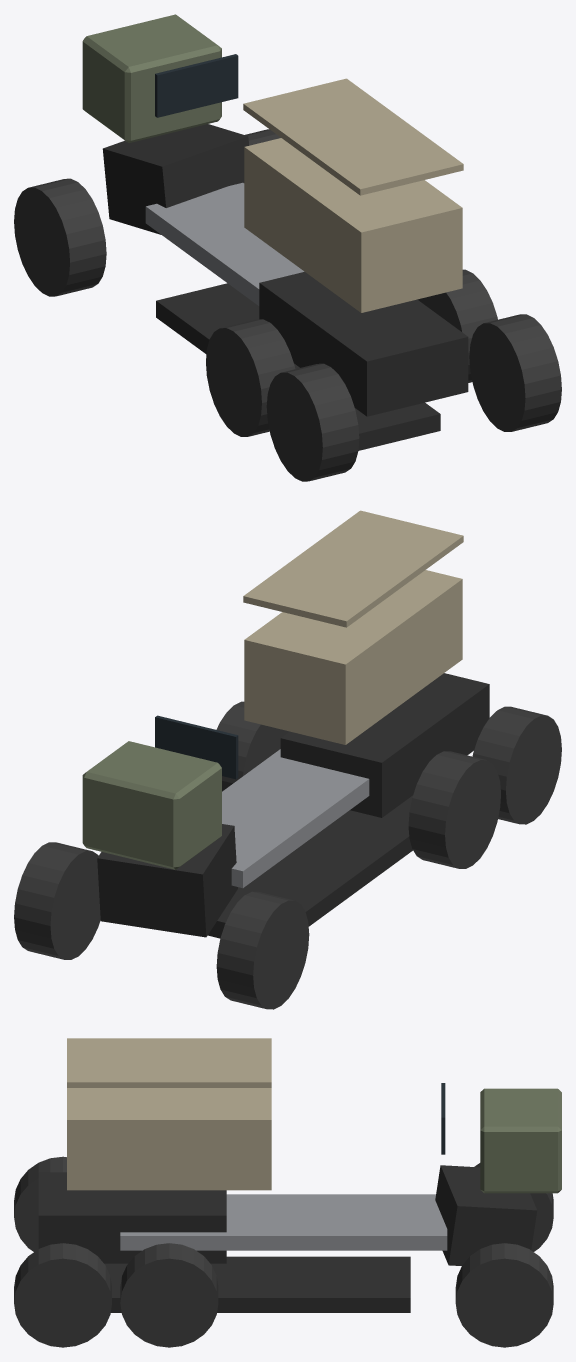
Rendered from Truck.fbx.
The picture shows the model from 3 angles, top to bottom: view 1: azimuth 30°, elevation 25°; view 2: azimuth 150°, elevation 25°; view 3: azimuth 270°, elevation 25°; orthographic projection. The views are drawn at different scales.
Parts seen in each view (by area): view 1: Truck_Intact, Truck_Wreck; view 2: Truck_Intact, Truck_Wreck; view 3: Truck_Intact, Truck_Wreck.
Part boxes in pixels (x1,y1,x2,y2): Truck_Intact: (14, 14, 561, 481); Truck_Wreck: (102, 124, 468, 450); Truck_Intact: (14, 510, 561, 1009); Truck_Wreck: (97, 673, 489, 938); Truck_Intact: (14, 1038, 561, 1347); Truck_Wreck: (38, 1165, 537, 1312).
Size of the model in its own units: 295 by 319 by 670.
